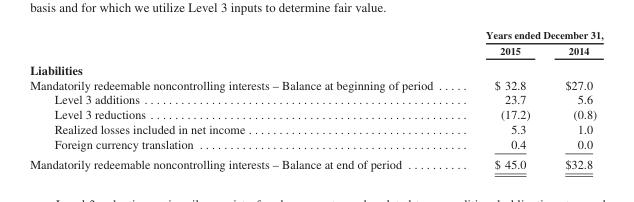table: (29, 28, 602, 170)
table column: (29, 28, 458, 170), (458, 28, 547, 170), (547, 28, 602, 170)
table column header: (29, 28, 602, 77)
table row: (29, 42, 602, 77), (29, 136, 602, 153), (29, 153, 602, 170), (29, 91, 602, 106), (29, 106, 602, 121), (29, 121, 602, 136), (29, 28, 602, 42), (29, 77, 602, 91)
table spanning cell: (29, 28, 458, 77), (458, 28, 602, 42)
